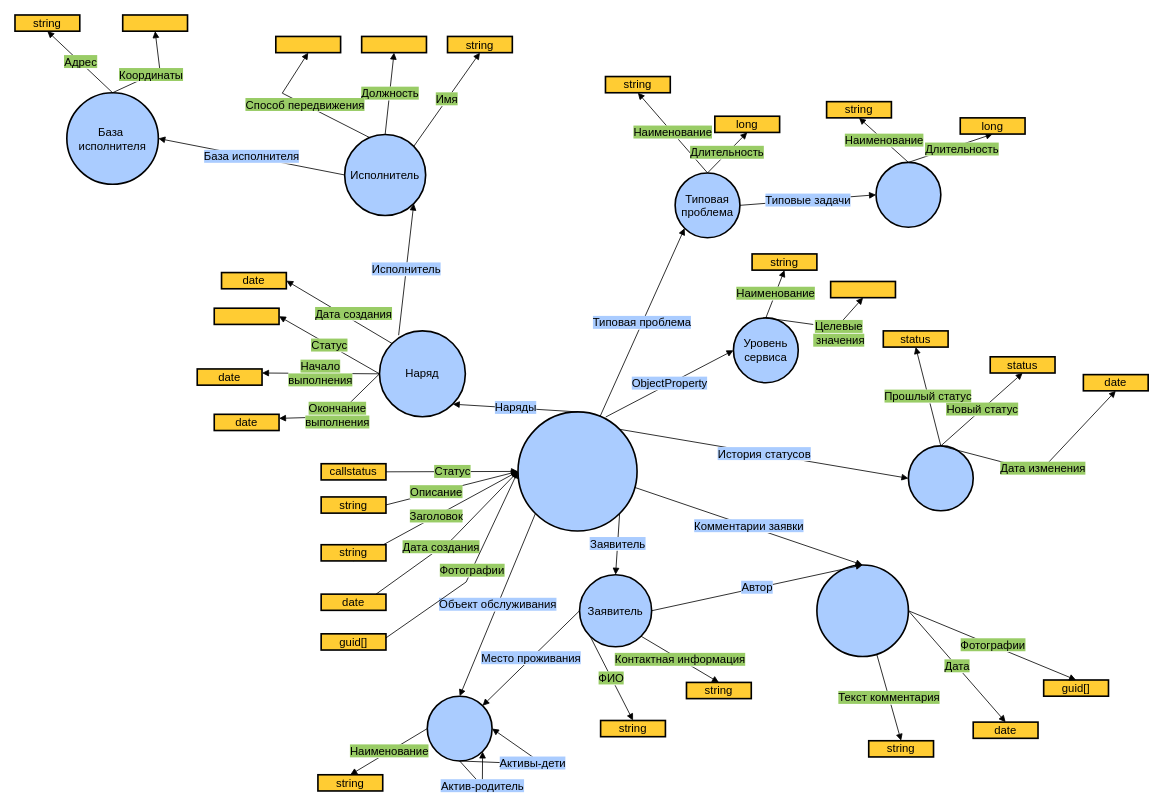
This 1162x807 diagram has some shape labels left out. Here are the shapes that lost their labels. From the top down, the centre of each, then its label:
At point (155, 23): "coordinates".
At point (308, 44): "travel".
At point (393, 44): "job title".
At point (908, 194): "Типовая задача".
At point (862, 289): "sla".
At point (246, 316): "taskstatus".
At point (577, 471): "Заявка".
At point (940, 478): "История статуса".
At point (862, 610): "Комментарии к заявке".
At point (459, 728): "Актив".
